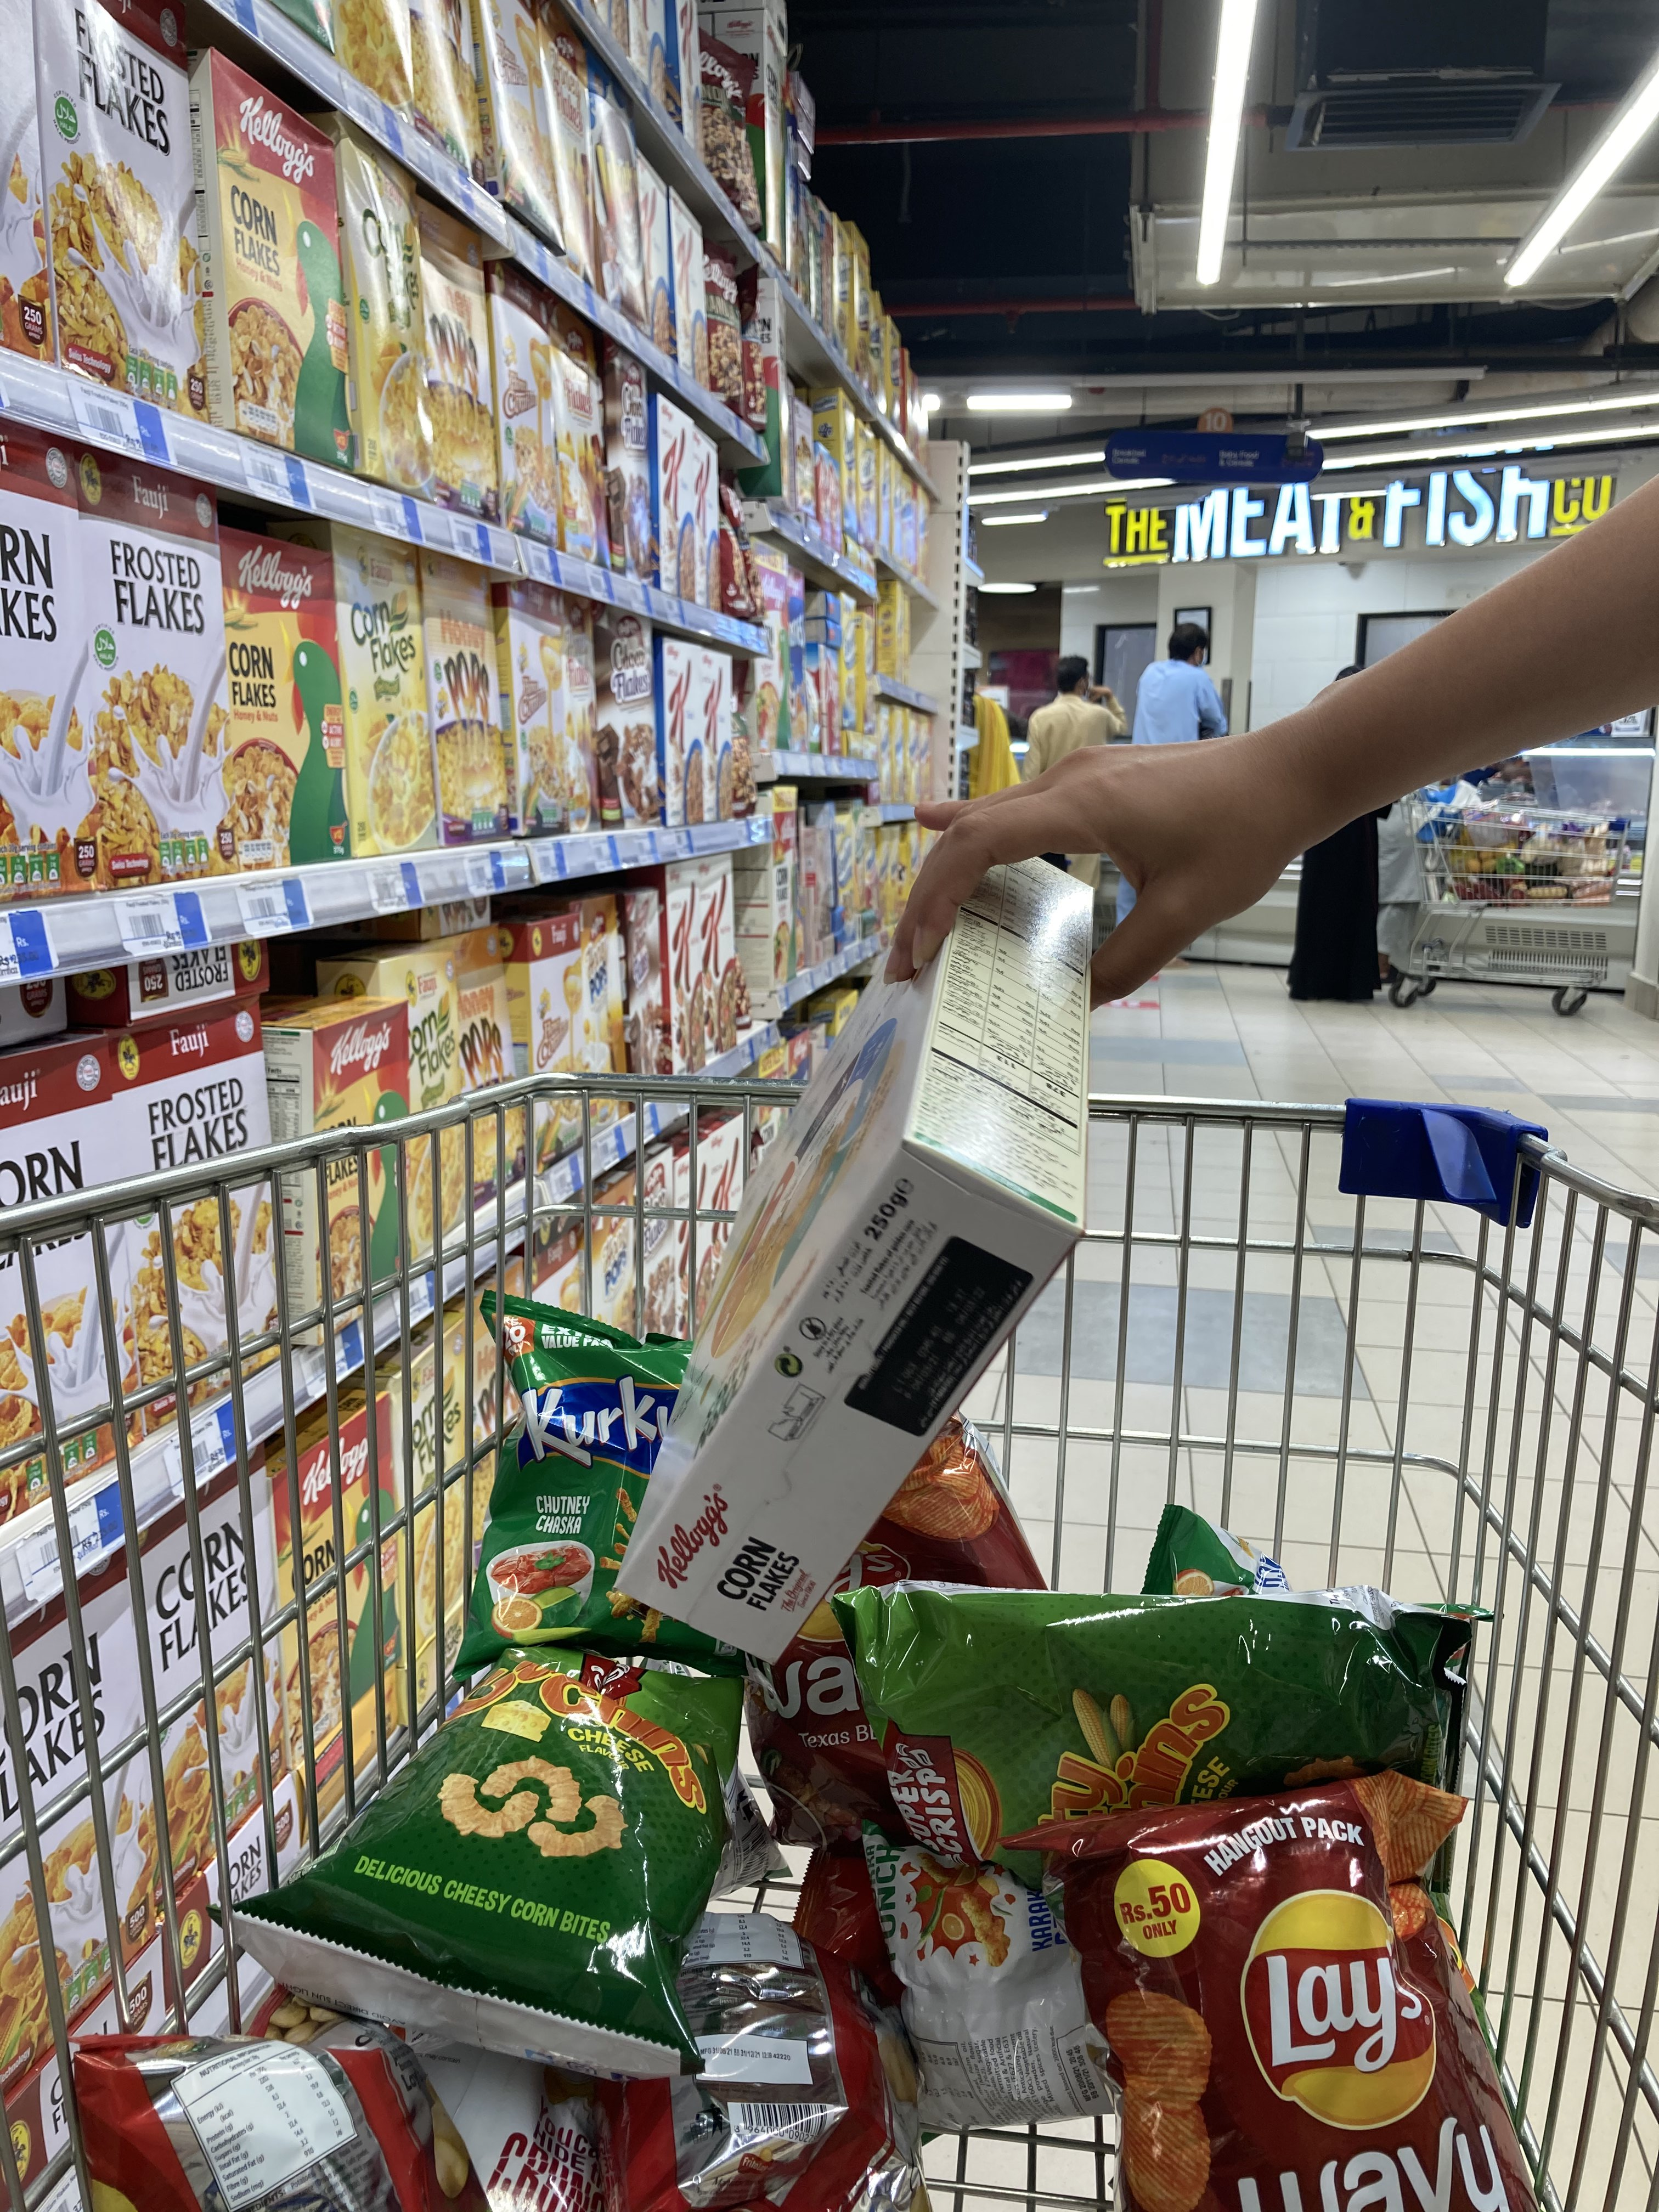Kellogg's Corn Flakes: (612, 838, 1098, 1662)
